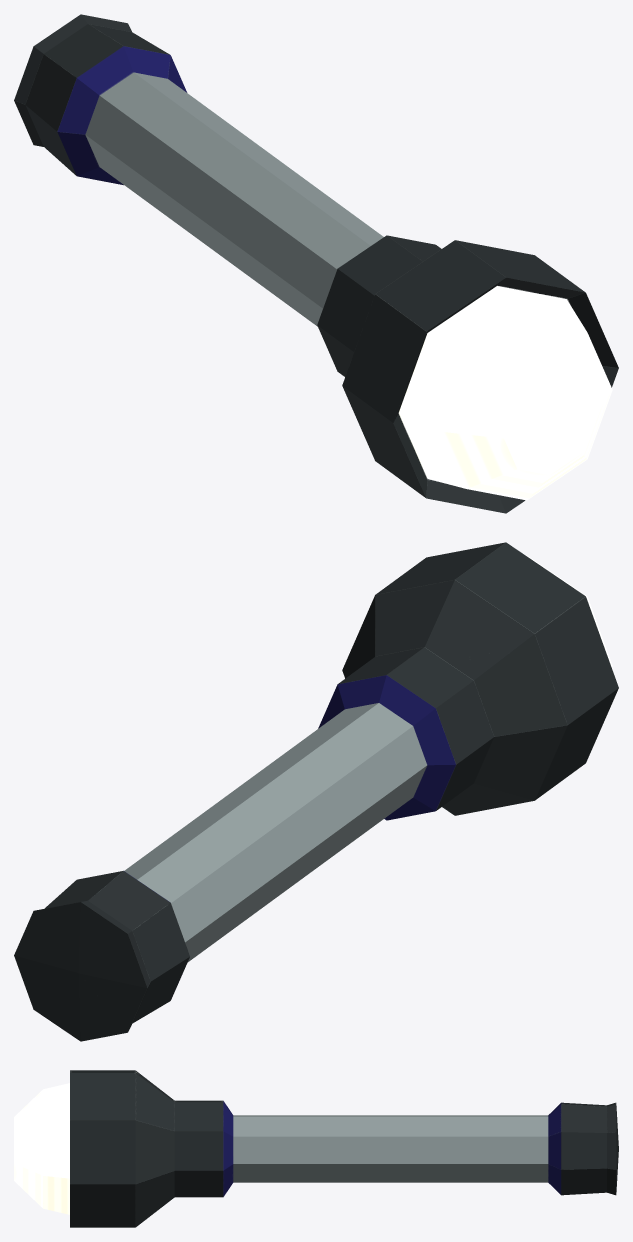
Rendered from Flashlight.fbx.
The picture shows the model from 3 angles, top to bottom: view 1: azimuth 30°, elevation 25°; view 2: azimuth 150°, elevation 25°; view 3: azimuth 270°, elevation 25°; orthographic projection. The views are drawn at different scales.
Visible parts, largest first — view 1: Flashlight; view 2: Flashlight; view 3: Flashlight.
Part boxes in pixels (x1=…): Flashlight: x1=14, y1=14, x2=618, y2=513; Flashlight: x1=14, y1=542, x2=618, y2=1041; Flashlight: x1=14, y1=1070, x2=618, y2=1227.
Size of the model in its own units: 10.61 by 10.61 by 38.35.
